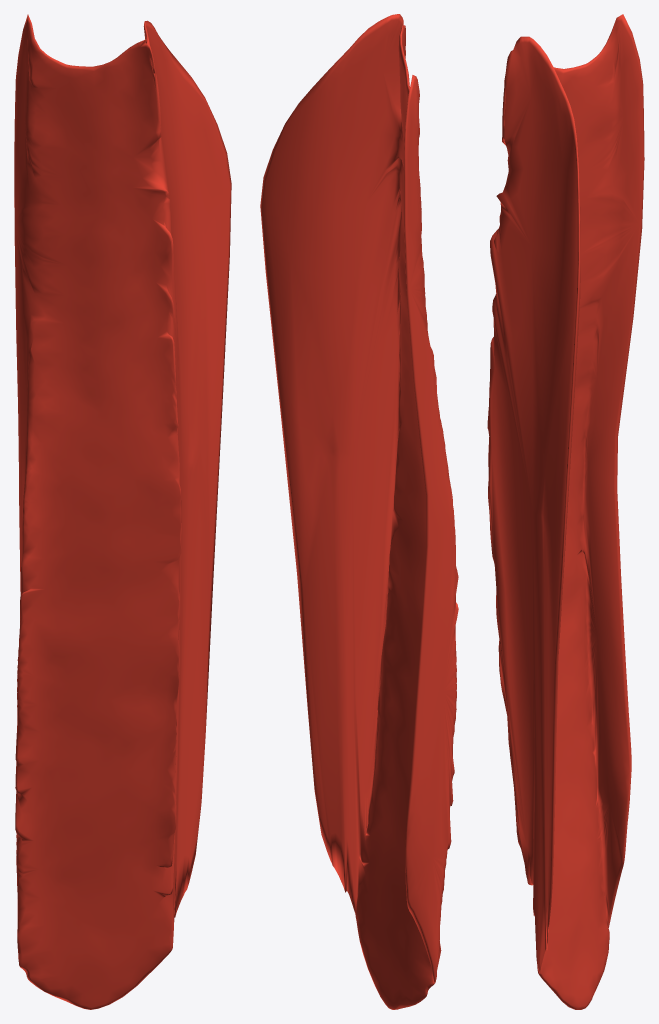
Rendered from Tibialis_posterior_interosseus_membrane_left.glb.
3 renders of one model, left to right at view 1: azimuth 30°, elevation 25°; view 2: azimuth 150°, elevation 25°; view 3: azimuth 270°, elevation 25°, orthographic. The views are drawn at different scales.
Visible parts, largest first — view 1: Tibialis_posterior_on_post._surface_of_interosseus_membrane.; view 2: Tibialis_posterior_on_post._surface_of_interosseus_membrane.; view 3: Tibialis_posterior_on_post._surface_of_interosseus_membrane..
Part boxes in pixels (<box>): Tibialis_posterior_on_post._surface_of_interosseus_membrane.: <box>14,14,231,1009</box>; Tibialis_posterior_on_post._surface_of_interosseus_membrane.: <box>260,14,458,1009</box>; Tibialis_posterior_on_post._surface_of_interosseus_membrane.: <box>487,14,644,1009</box>.
Size of the model in its own units: 0.0308 by 0.1412 by 0.0204.
